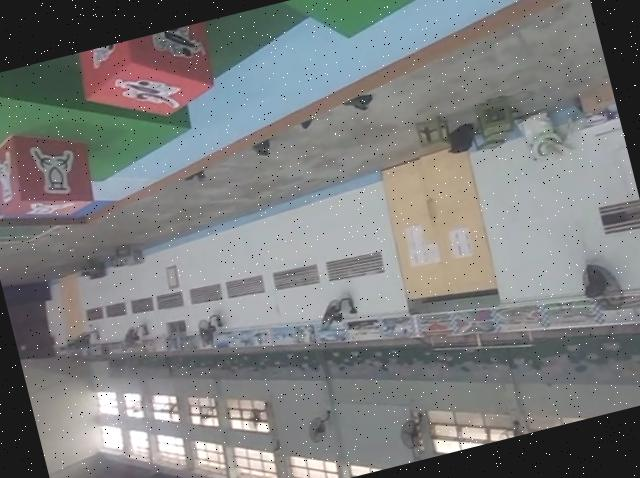R1: (73, 22, 223, 139)
R2 Real: (0, 118, 97, 232)
